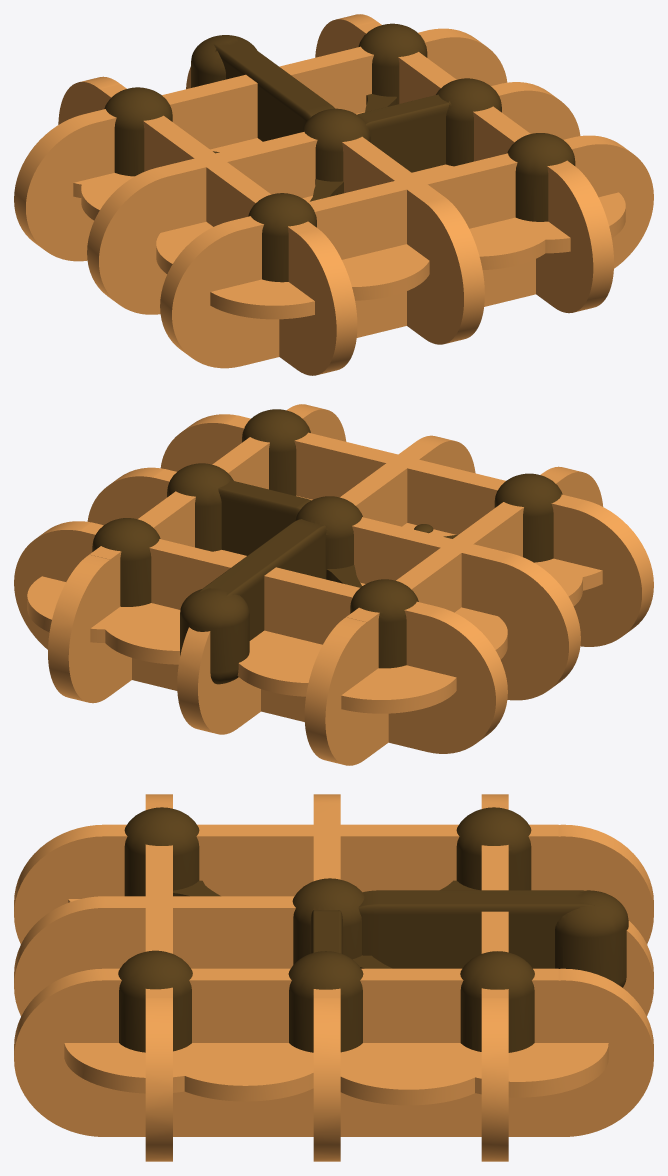
The model's file is belgian_waffle.glb.
The picture shows the model from 3 angles, top to bottom: view 1: azimuth 30°, elevation 25°; view 2: azimuth 150°, elevation 25°; view 3: azimuth 270°, elevation 25°; orthographic projection. The views are drawn at different scales.
Parts seen in each view (by area): view 1: Object_2, Object_3; view 2: Object_2, Object_3; view 3: Object_2, Object_3.
Boxes of the visible parts, x1,y1,x2,y2 form: Object_2: [14, 14, 653, 375]; Object_3: [104, 23, 575, 282]; Object_2: [14, 404, 653, 765]; Object_3: [92, 409, 562, 684]; Object_2: [14, 794, 653, 1161]; Object_3: [118, 807, 628, 1052].
Size of the model in its own units: 126 by 38 by 126.
